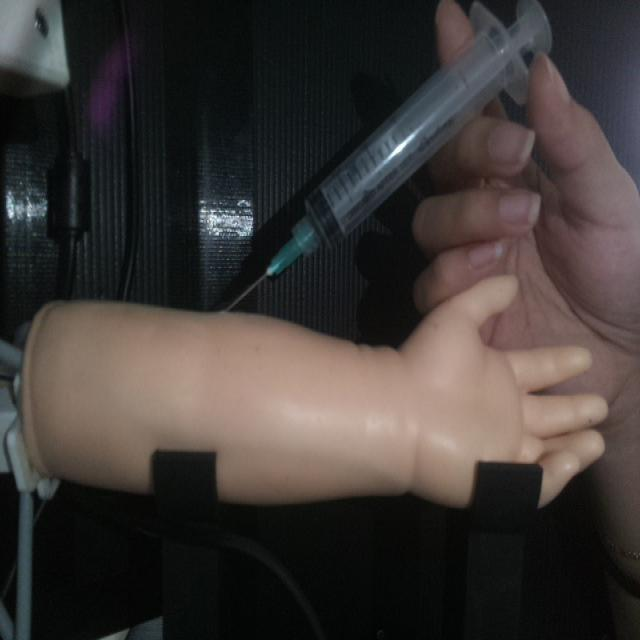Outside: (219, 0, 556, 318)
